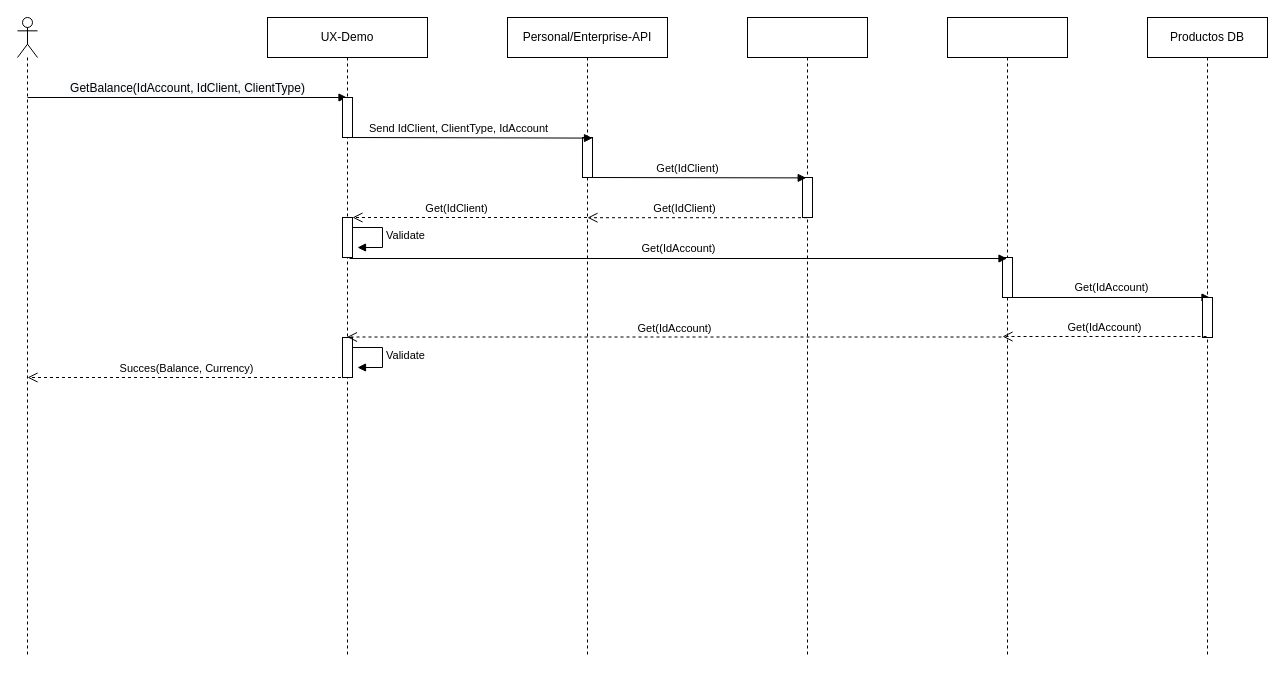
Image size: 1285x675. Some labels were removed from this diagram. The shapes that lost their labels are listed below. From the top down, each one's box as (x1, y1, x2, y2) in pixels, then its label:
(746, 16, 868, 658): Personal/Enterprise DB
(946, 16, 1068, 658): Productos-API
